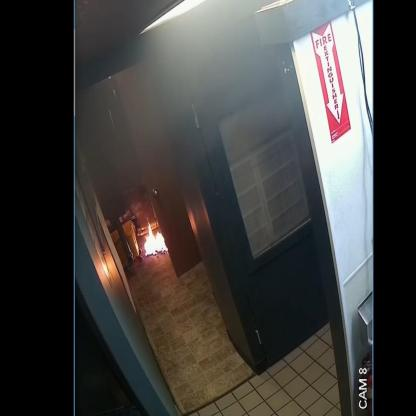fire: (144, 222, 168, 256)
